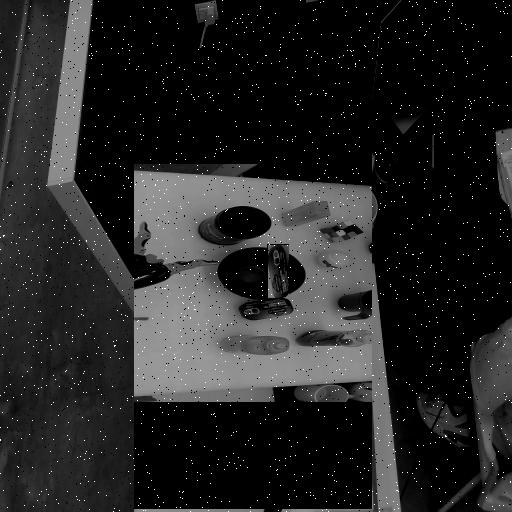bowl: (217, 250, 268, 302)
cleanser: (300, 162, 316, 241)
coffee_can: (175, 283, 214, 322)
jaco: (190, 316, 260, 437)
meat_can: (268, 245, 289, 298)
mug: (259, 143, 289, 199)
mustard_bottle: (305, 249, 324, 317)
rubik: (190, 185, 212, 207)
soup_can: (290, 78, 308, 133)
tennis_ball: (221, 188, 238, 218)
windex: (197, 99, 225, 121)
wooden_block: (171, 208, 195, 254)
workspace: (134, 171, 372, 399)
